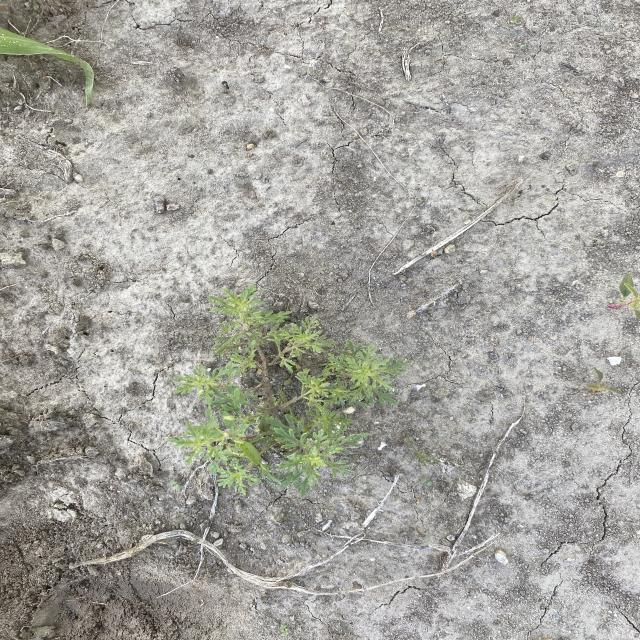Ragweed: (160, 282, 415, 498)
